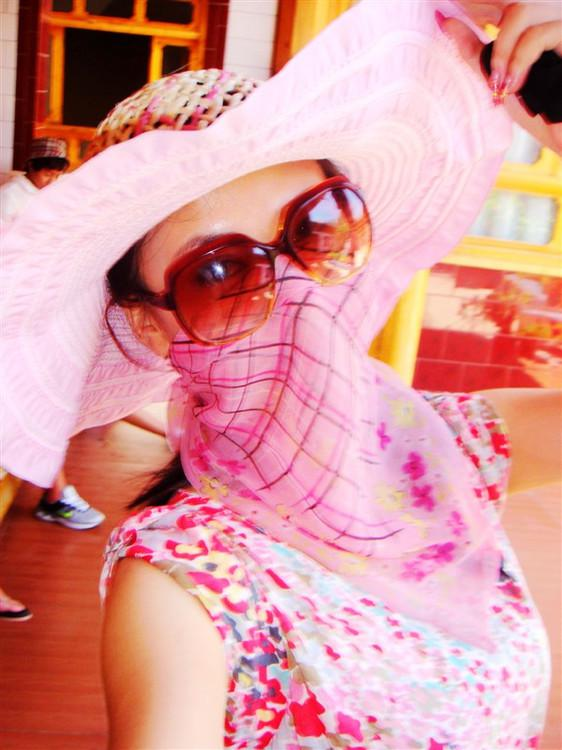OK: (165, 185, 377, 397)
